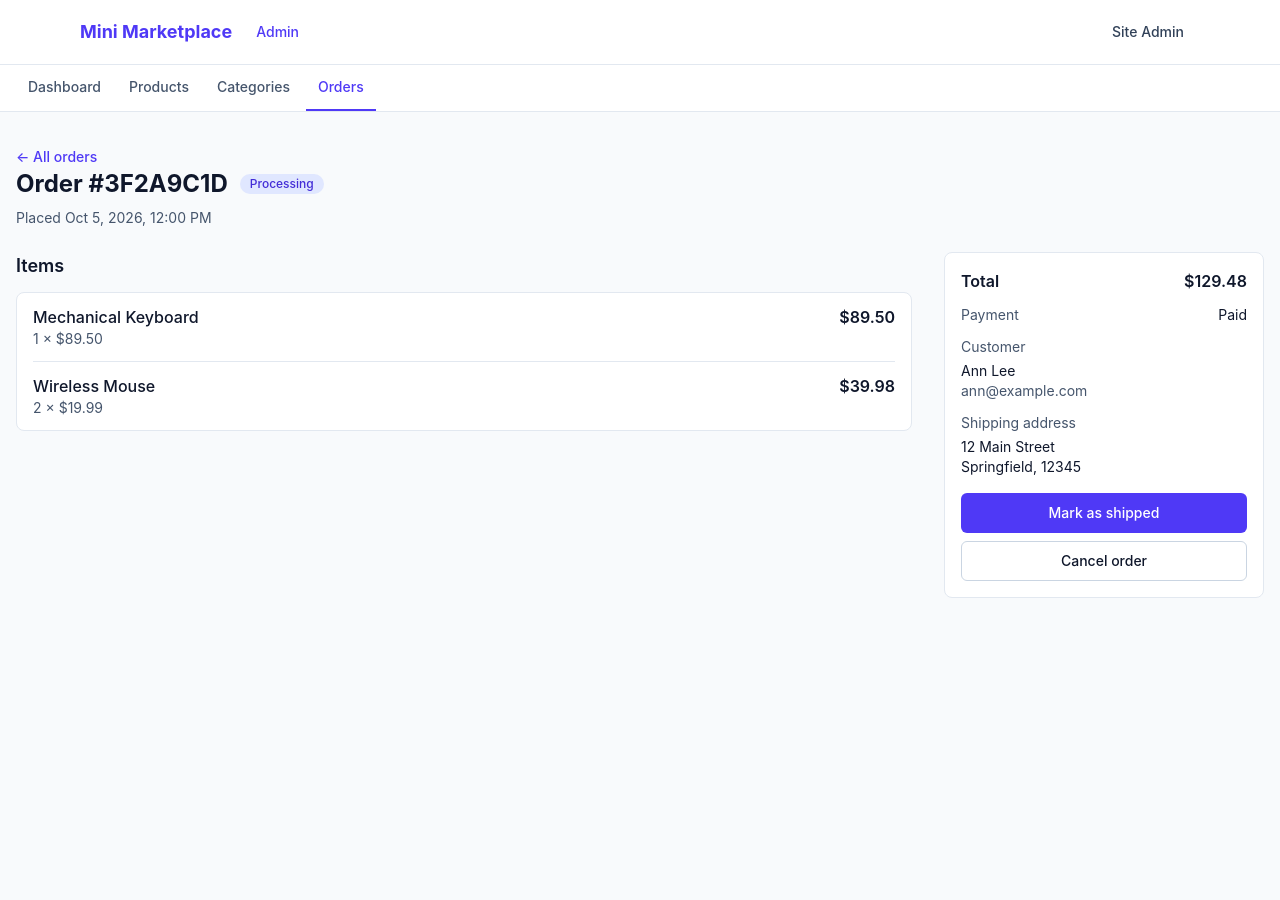
Test case: an admin order page › cancels only after confirmation, and reloads the product tables (stock is back)
This screenshot has width=1280, height=900.
Click the button "Cancel order": (1104, 561) [961, 541, 1247, 581]
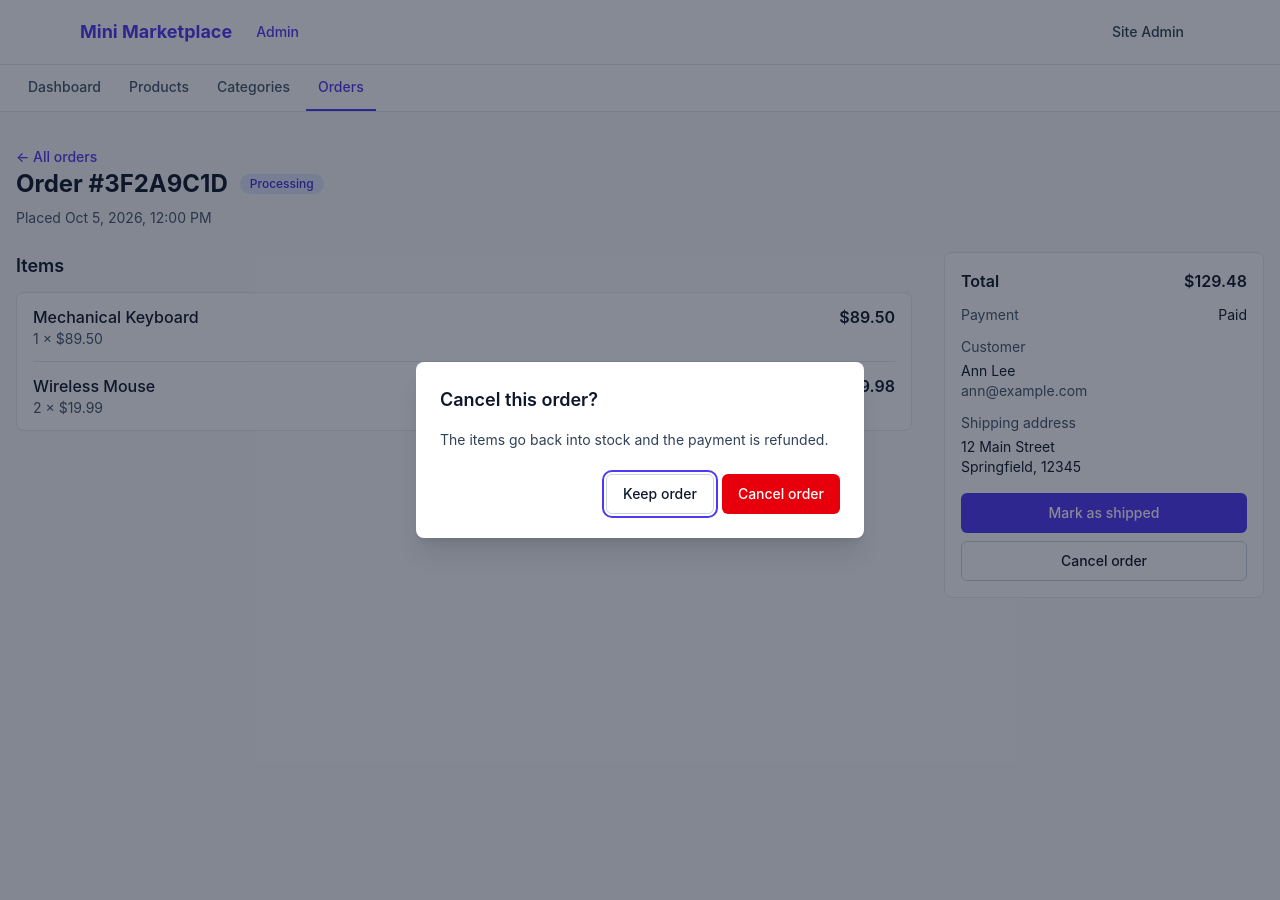
expect the text "The items go back into stock and the payment is refunded." is shown: met, box [440, 430, 840, 450]
Click the button "Cancel order": (781, 494) [722, 474, 840, 514]
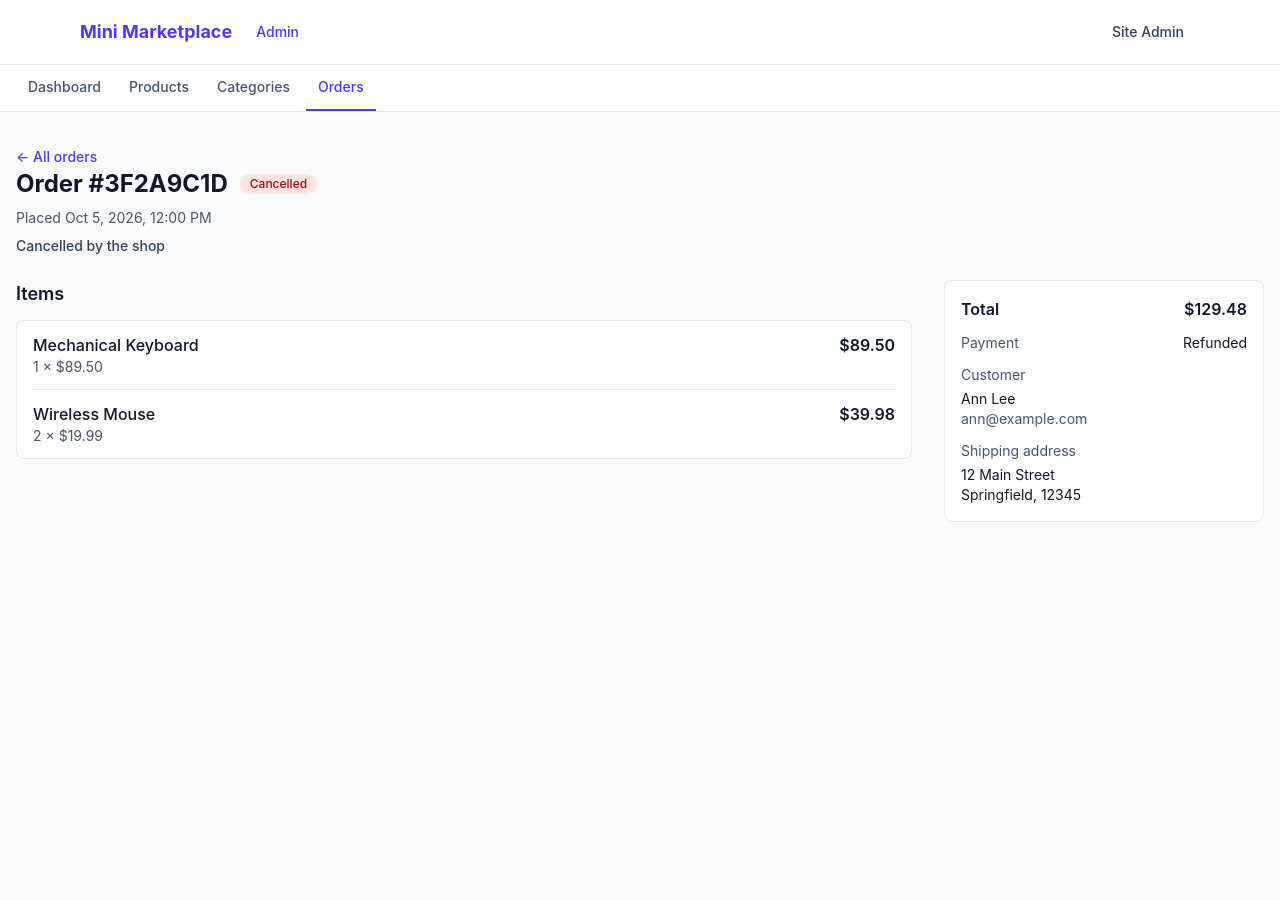
expect the text "Cancelled by the shop" is shown: met, box [16, 237, 165, 254]
